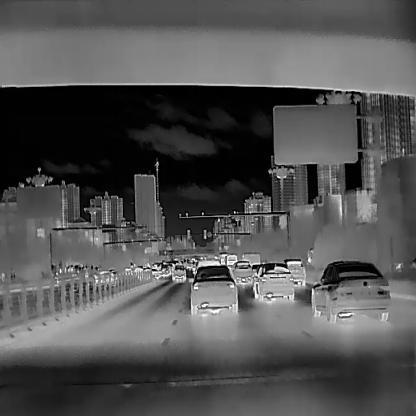car: (311, 260, 391, 323), (191, 264, 238, 314), (252, 262, 294, 301), (283, 257, 306, 285), (193, 259, 220, 280), (231, 259, 253, 283), (136, 267, 161, 279), (240, 252, 260, 265), (94, 269, 113, 282), (173, 264, 186, 281)
